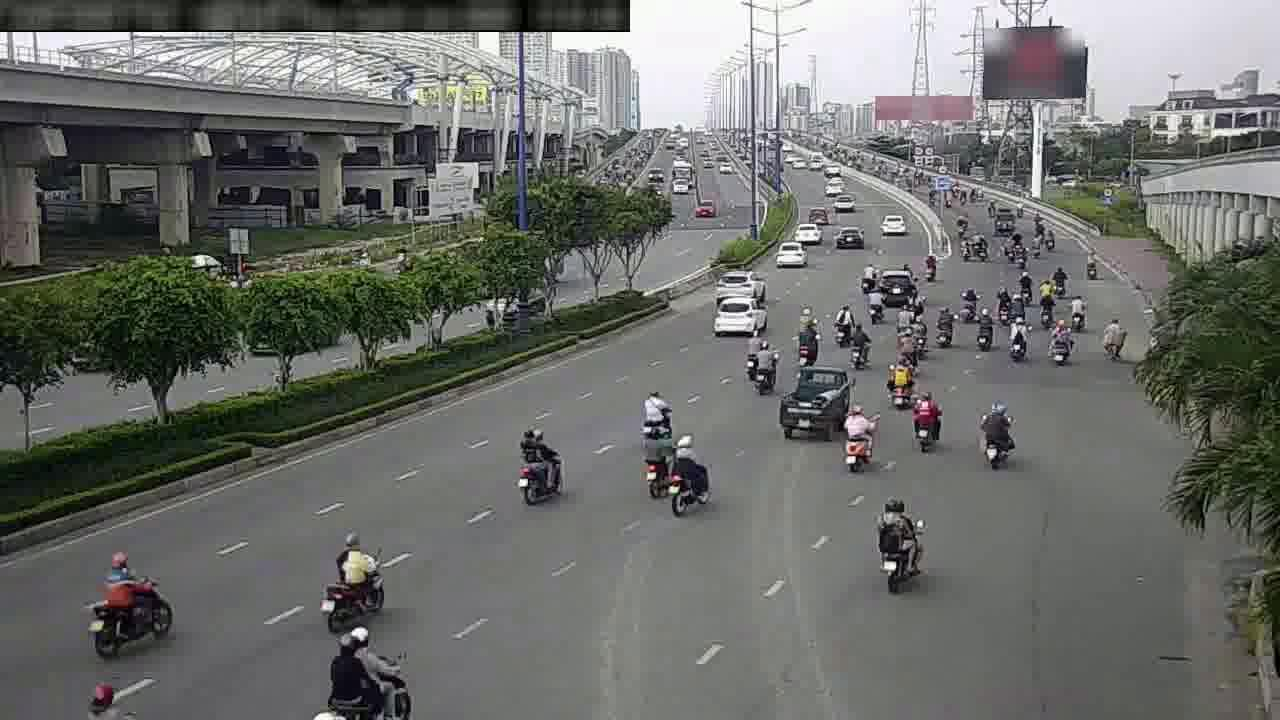car: (861, 251, 920, 304), (703, 292, 767, 333), (875, 265, 928, 314), (703, 256, 759, 296), (773, 238, 816, 281)
motorbike: (62, 556, 156, 654), (319, 627, 419, 709), (319, 529, 403, 622), (871, 483, 933, 593), (505, 421, 563, 496), (975, 385, 1022, 467), (662, 437, 703, 516), (825, 410, 878, 469), (1085, 310, 1136, 369), (744, 344, 791, 406), (910, 397, 956, 457), (635, 430, 671, 503), (635, 379, 677, 441), (883, 368, 927, 424), (842, 318, 877, 372), (862, 290, 898, 339), (793, 296, 820, 352), (738, 329, 769, 376), (1047, 321, 1074, 365), (1060, 296, 1096, 327), (969, 309, 995, 351), (832, 303, 859, 338), (931, 313, 954, 346), (955, 288, 979, 316), (1006, 318, 1027, 349), (891, 298, 910, 326)
